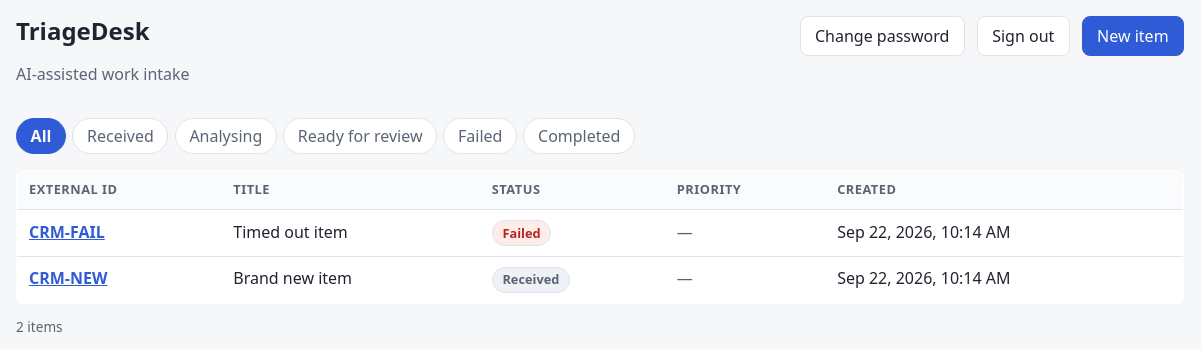
Test: status filter › choosing Failed puts the status in the URL and shows only failed items
expect the text "Brand new item" is shown: met, box [221,256,480,303]
Click the button "Failed".
click(480, 136)  # box [443,118,517,154]
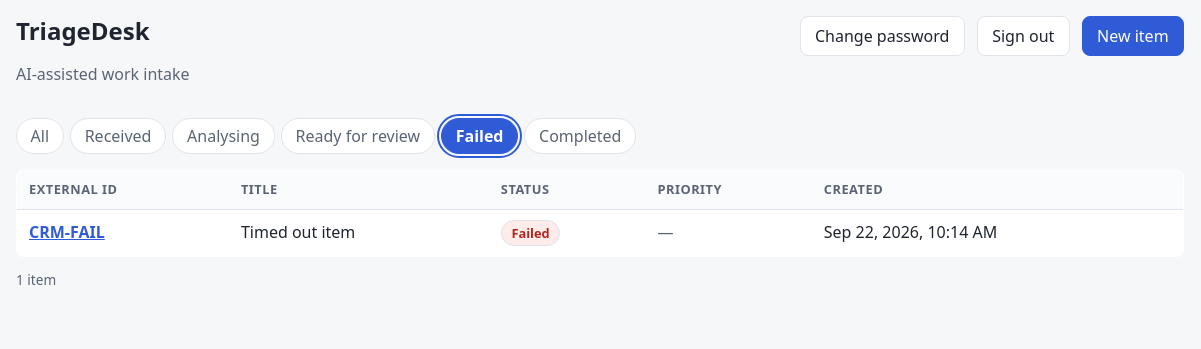
expect the text "Timed out item" is shown: met, box [229,210,489,256]
expect the text "Brand new item" is gone: met
